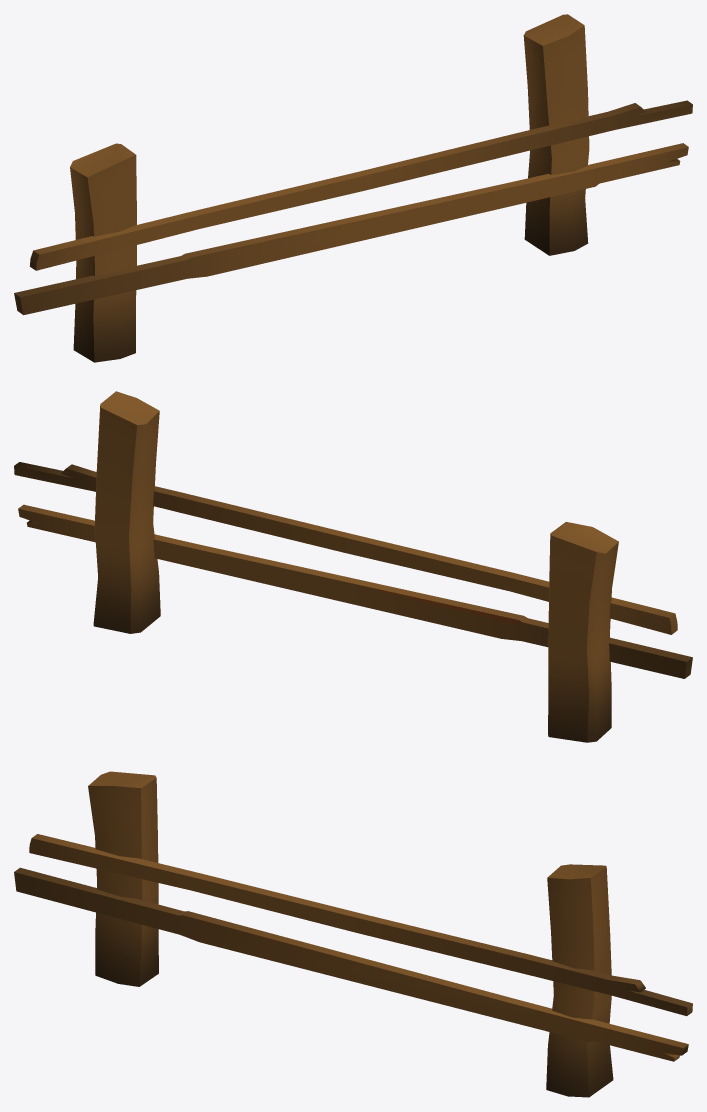
File: RoadFenceWood_Lrg-03.FBX
The picture shows the model from 3 angles, top to bottom: view 1: azimuth 30°, elevation 25°; view 2: azimuth 150°, elevation 25°; view 3: azimuth 330°, elevation 25°; orthographic projection.
Visible parts, largest first — view 1: RoadFenceWood_Lrg-03; view 2: RoadFenceWood_Lrg-03; view 3: RoadFenceWood_Lrg-03.
Part boxes in pixels (box(x1,y1,x2,y2)): RoadFenceWood_Lrg-03: box(14, 14, 692, 362); RoadFenceWood_Lrg-03: box(14, 391, 692, 742); RoadFenceWood_Lrg-03: box(14, 771, 692, 1097).
Size of the model in its own units: 463 by 144 by 35.88.
Materials: 1 (1 with a texture image).
